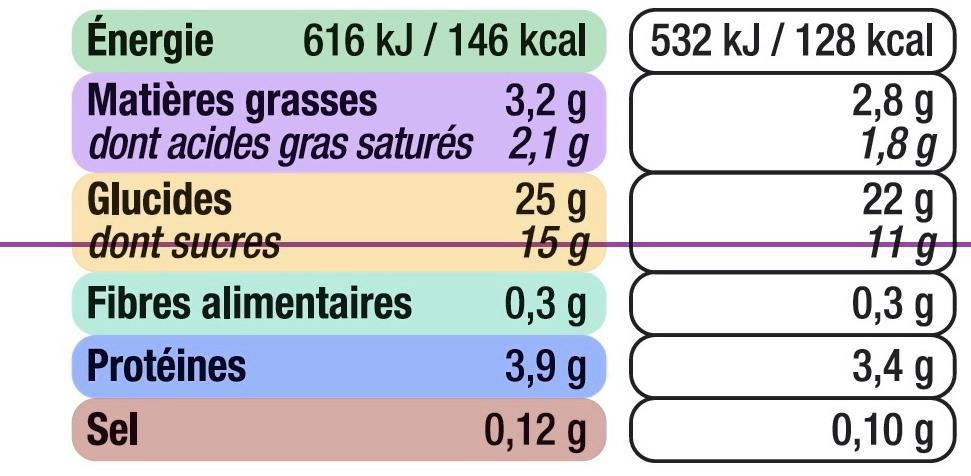column: (84, 24, 413, 455), (639, 10, 941, 444), (445, 21, 592, 452)
line: (86, 276, 935, 333), (90, 401, 936, 453), (88, 339, 936, 390), (85, 125, 933, 174), (87, 222, 936, 269), (82, 22, 925, 66), (86, 76, 929, 118), (85, 177, 930, 218)
table: (68, 6, 962, 466)
